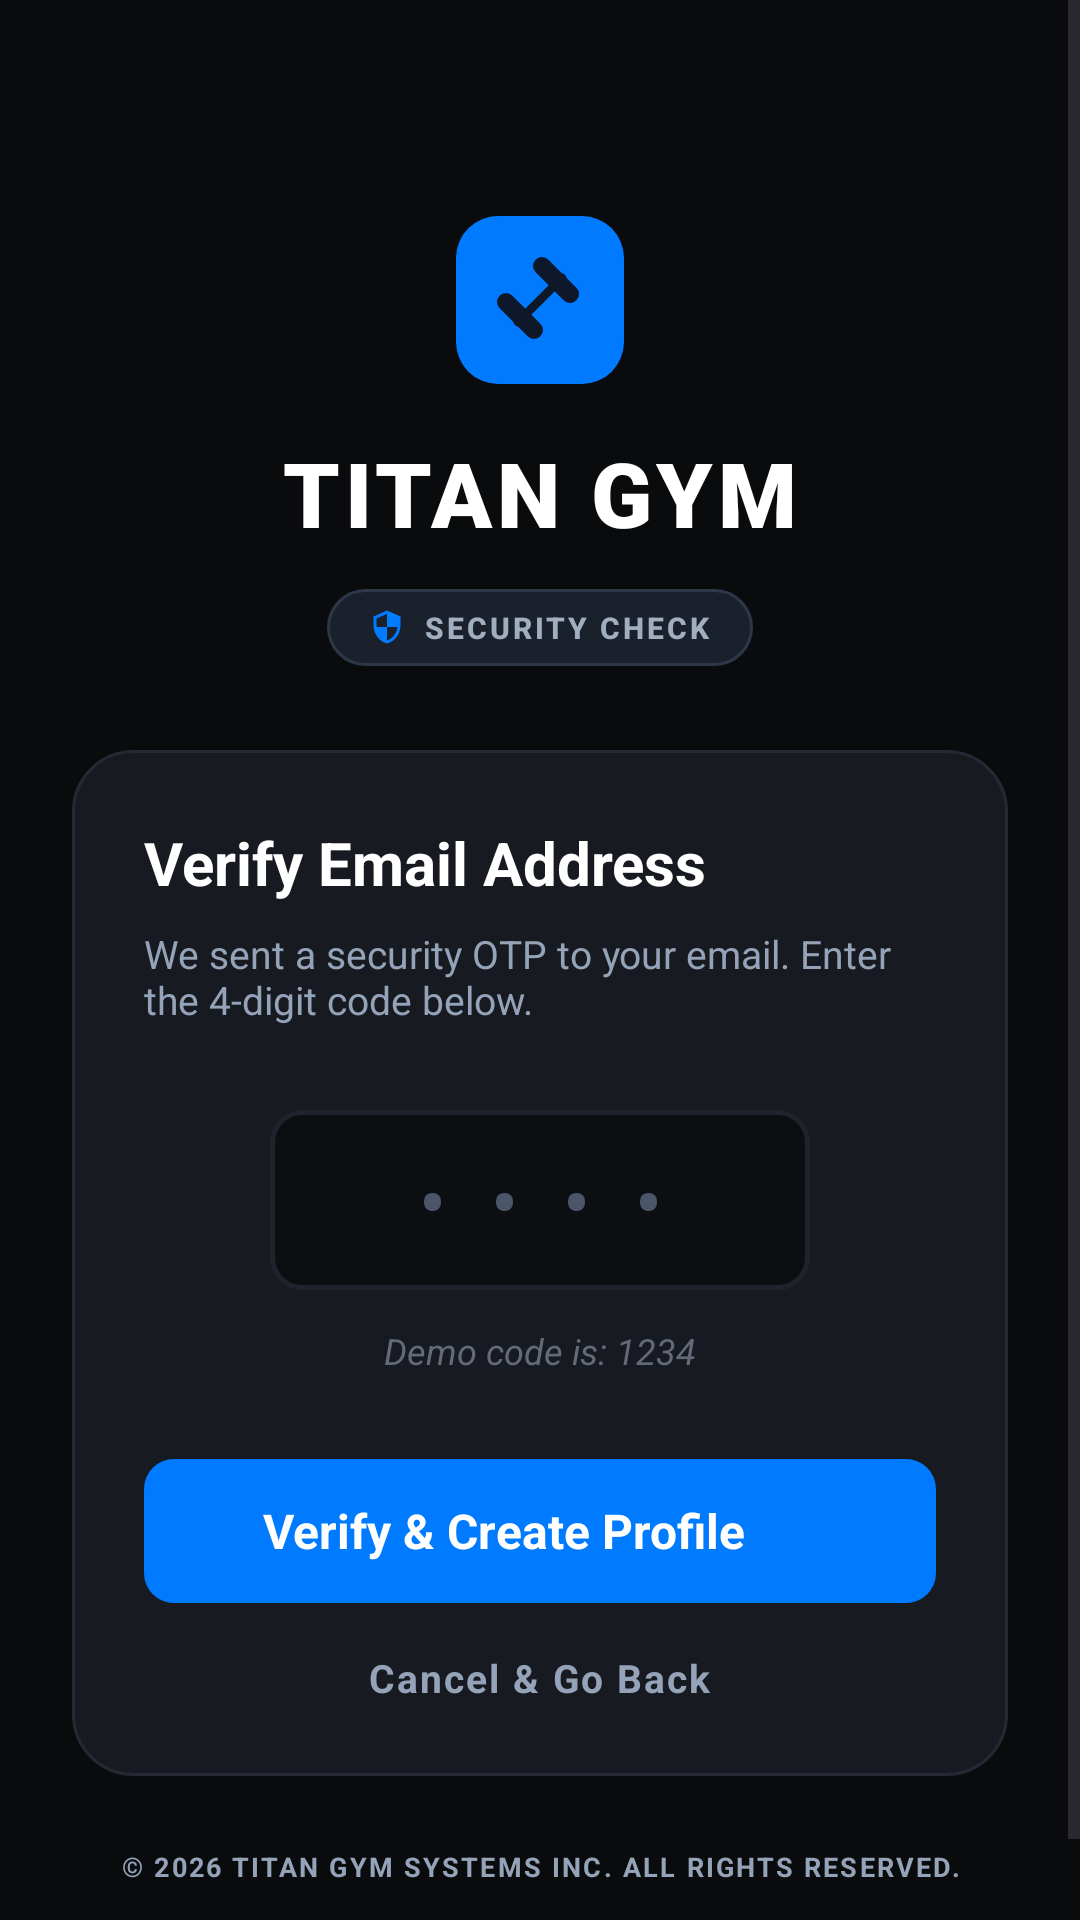

Where to tap for icons on this 1080x1920 app screen, as point (x, y):
Secure Icon: point (387, 627)
